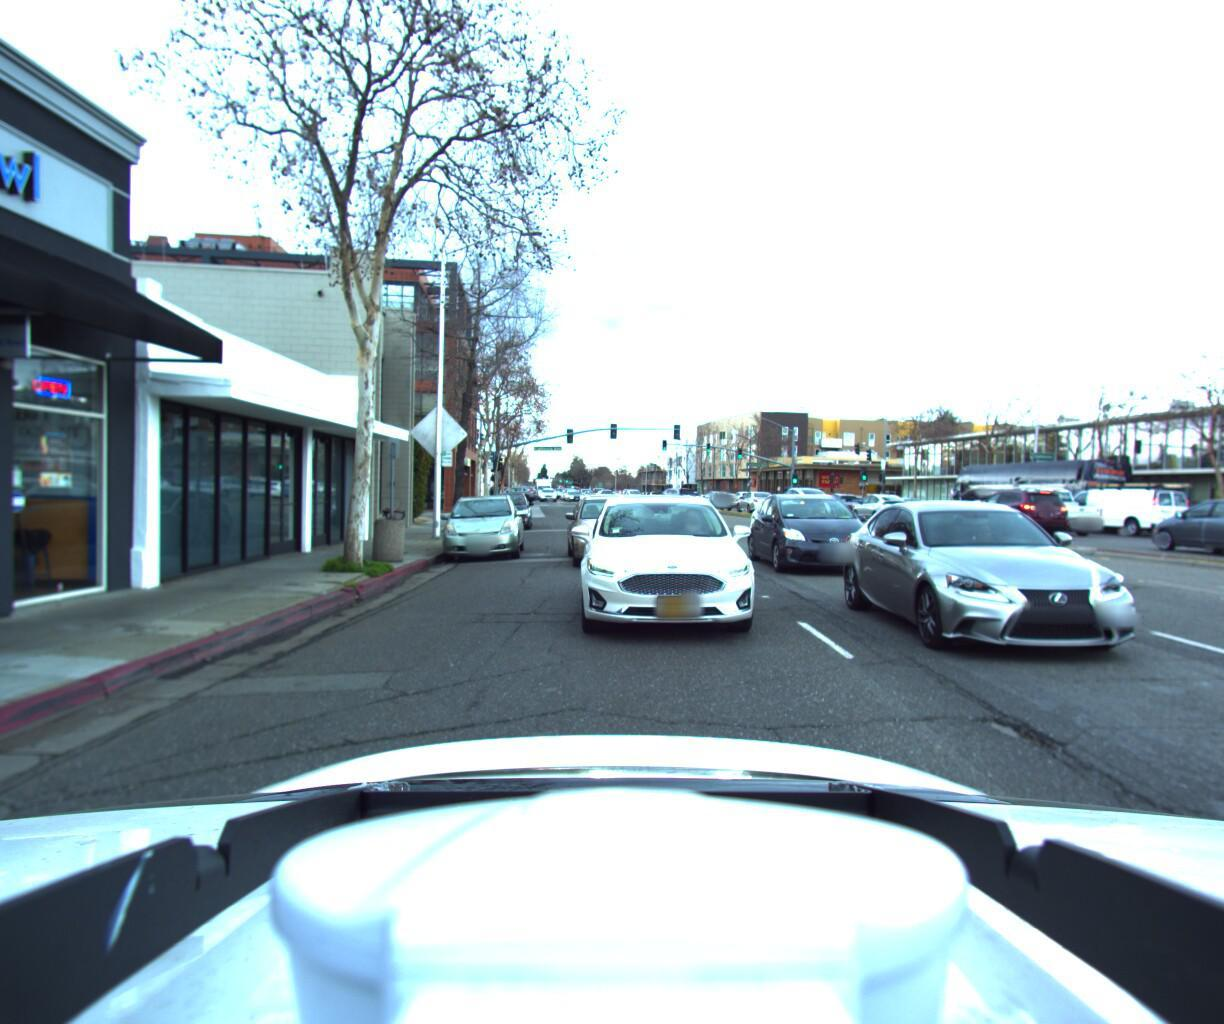bus: (945, 457, 1140, 534), (1038, 476, 1197, 540)
car: (821, 496, 1194, 681), (569, 487, 783, 647), (738, 487, 893, 577), (559, 489, 666, 573), (430, 490, 533, 565), (977, 485, 1114, 536), (957, 484, 1072, 537), (1137, 494, 1224, 562), (481, 486, 534, 531), (845, 490, 913, 525), (772, 482, 833, 518), (870, 494, 929, 522), (731, 487, 776, 511), (654, 486, 697, 507), (491, 484, 539, 502), (695, 490, 734, 513), (718, 487, 746, 507)
